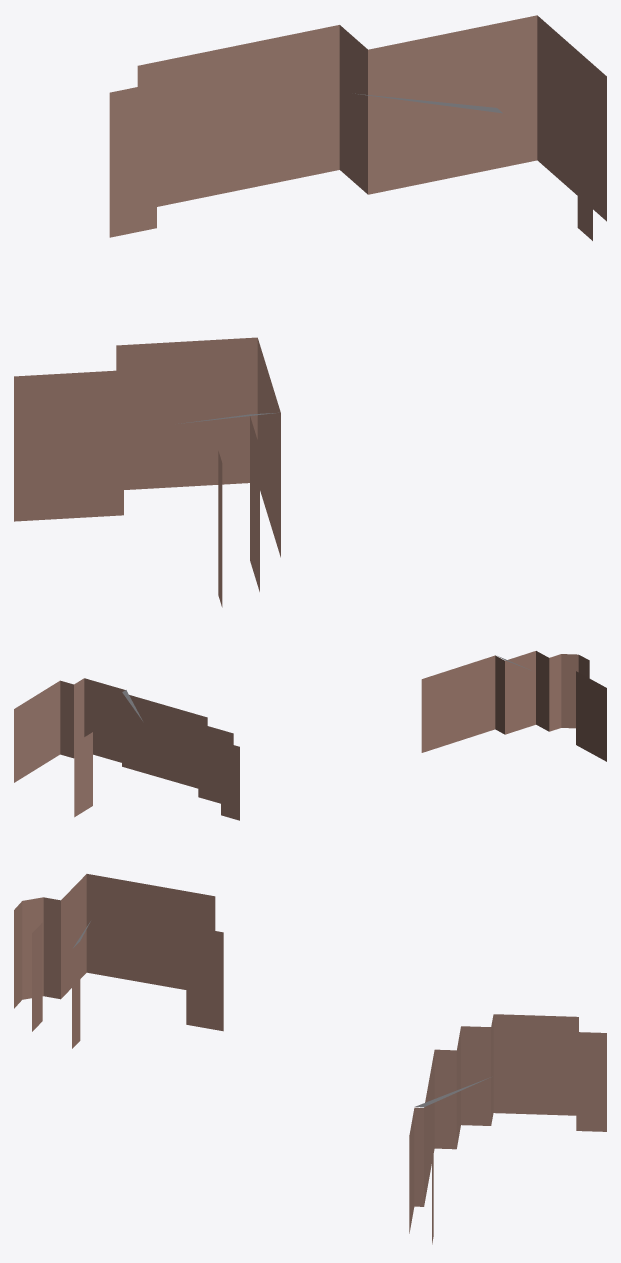
The model's file is c_1647_17821_buildings_residential.glb.
The picture shows the model from 3 angles, top to bottom: view 1: azimuth 30°, elevation 25°; view 2: azimuth 150°, elevation 25°; view 3: azimuth 270°, elevation 25°; orthographic projection. The views are drawn at different scales.
Visible parts, largest first — view 1: geometry_0; view 2: geometry_0; view 3: geometry_0.
Boxes of the visible parts, x1,y1,x2,y2 form: geometry_0: (14,15,606,607); geometry_0: (14,651,606,820); geometry_0: (14,874,606,1244).
Bounding box in the file's own units: 65.86 × 11.08 × 59.75.
